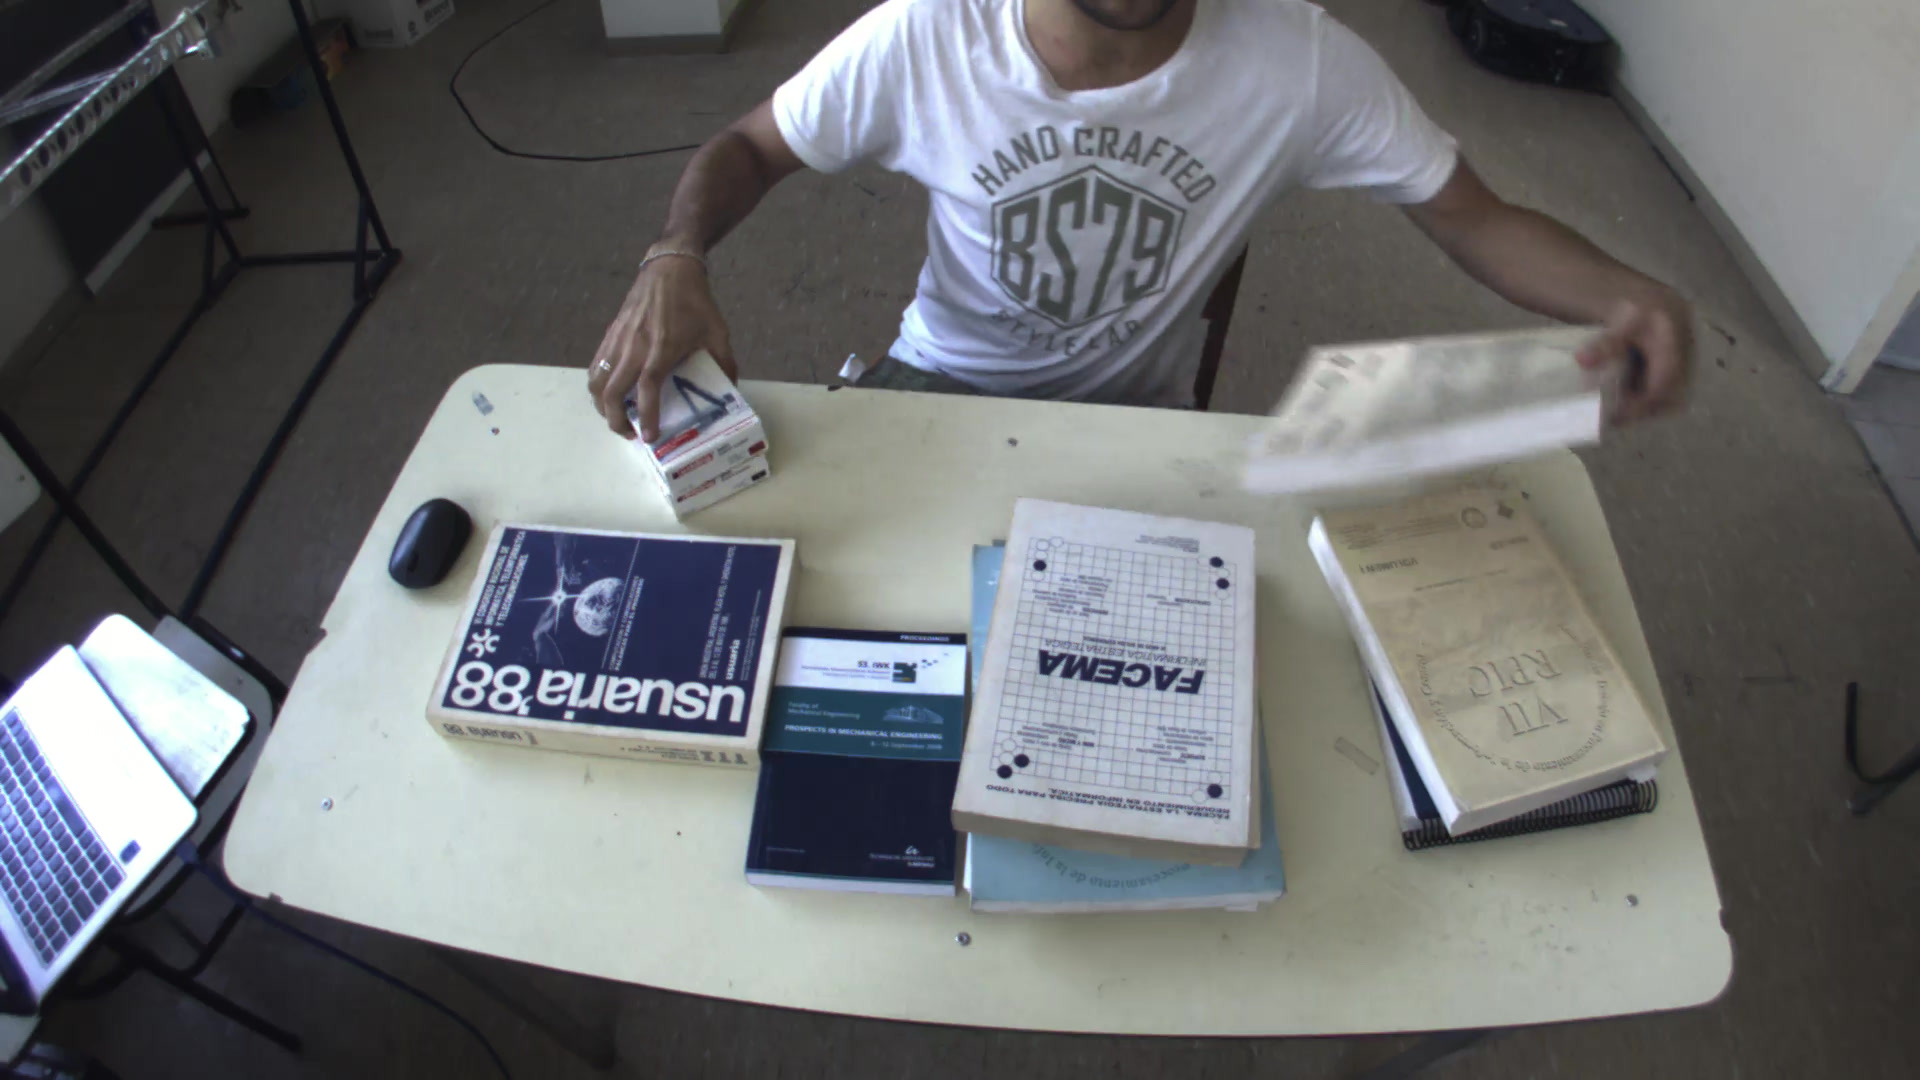hand: (578, 232, 732, 418)
